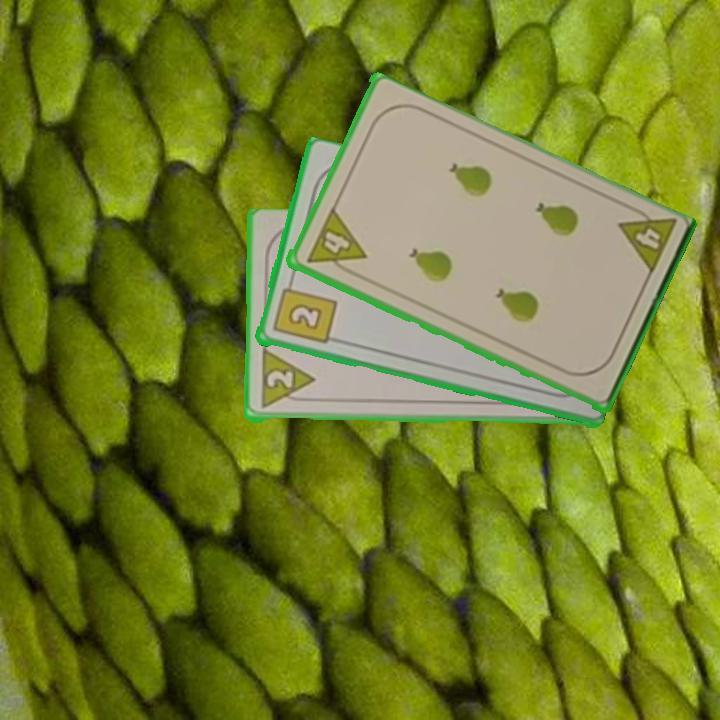2b: (269, 276, 338, 347)
2p: (257, 349, 317, 412)
4p: (613, 200, 679, 280), (302, 206, 368, 280)
